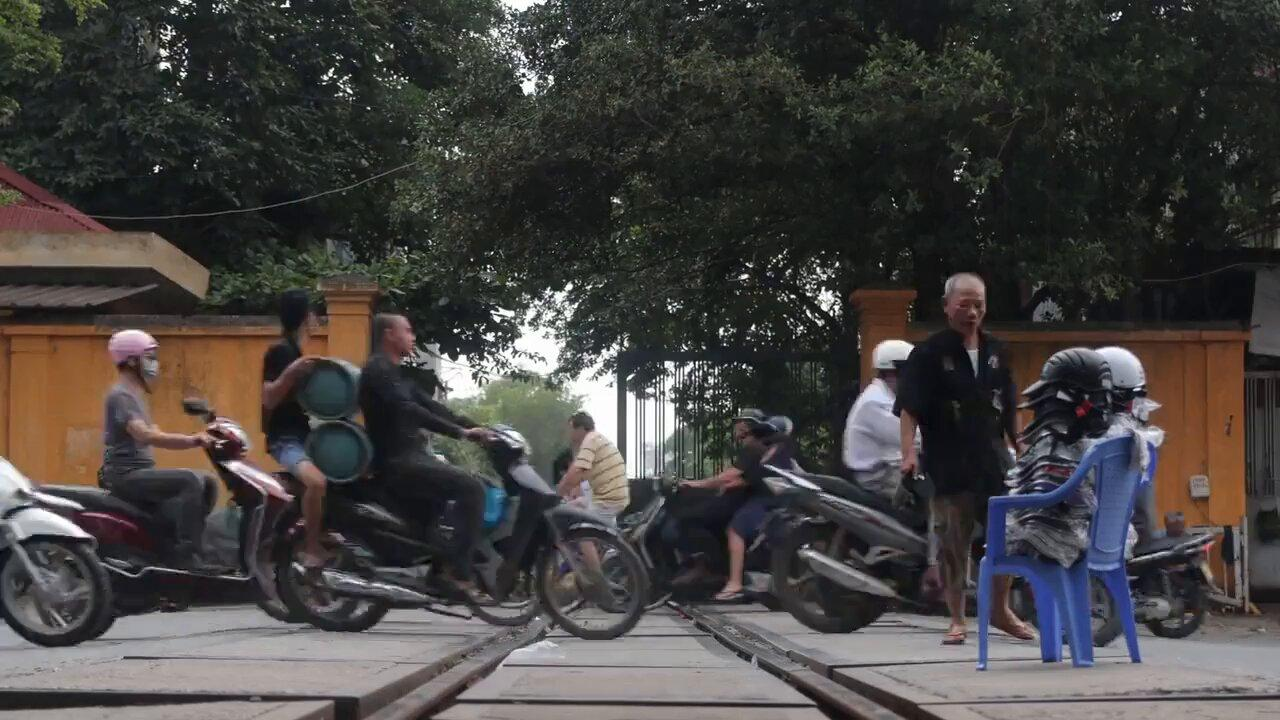driver: (258, 284, 649, 641), (35, 329, 362, 620), (744, 339, 931, 635)
helmet: (107, 329, 161, 396)
no-helmet: (943, 273, 986, 331), (370, 308, 418, 359)
